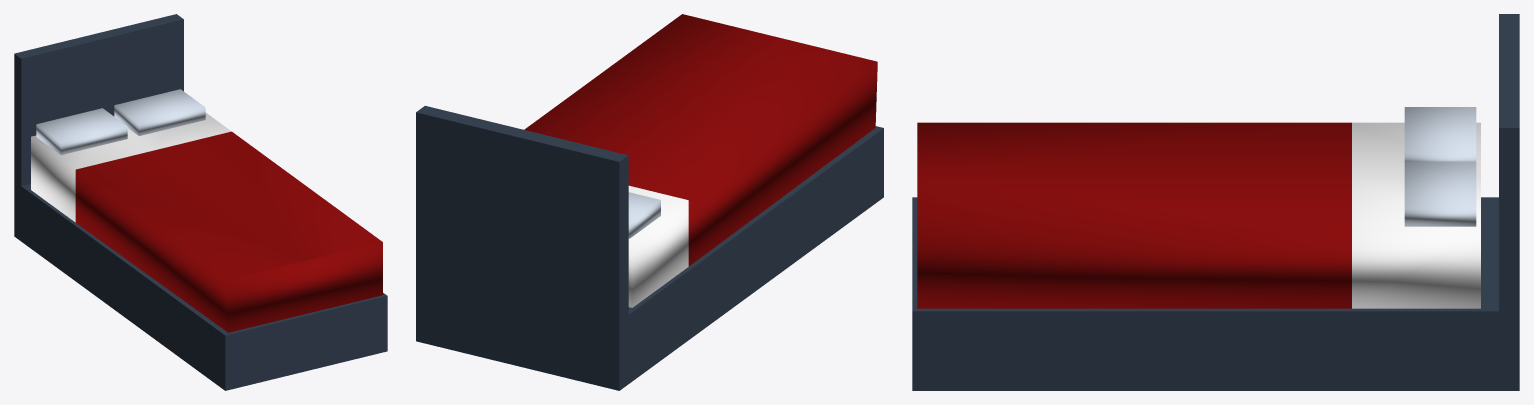
Rendered from neighbourbed.glb.
The picture shows the model from 3 angles, left to right: view 1: azimuth 30°, elevation 25°; view 2: azimuth 150°, elevation 25°; view 3: azimuth 270°, elevation 25°; orthographic projection. The views are drawn at different scales.
Parts seen in each view (by area): view 1: Bed; view 2: Bed; view 3: Bed.
Boxes of the visible parts, x1,y1,x2,y2 form: Bed: [14, 14, 387, 390]; Bed: [416, 14, 883, 390]; Bed: [912, 14, 1519, 390].
Size of the model in its own units: 0.8846 by 0.9513 by 1.99.
Materials: 1 (1 with a texture image).
